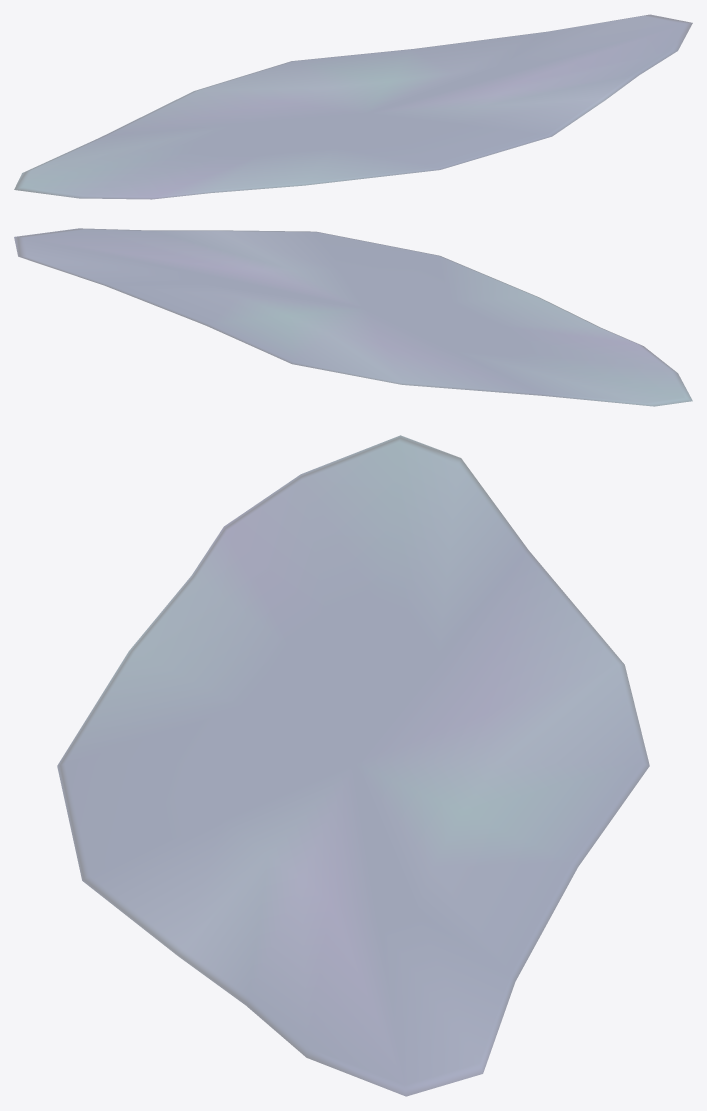
The model's file is alley_puddle.glb.
3 views of the same model, one above another, from view 1: azimuth 30°, elevation 25°; view 2: azimuth 150°, elevation 25°; view 3: azimuth 270°, elevation 25° (orthographic). The views are drawn at different scales.
Visible parts, largest first — view 1: alley_puddle; view 2: alley_puddle; view 3: alley_puddle.
Boxes of the visible parts, box(x1,y1,x2,y2) form: alley_puddle: box(14, 14, 692, 199); alley_puddle: box(14, 228, 692, 406); alley_puddle: box(57, 435, 649, 1096).
Bounding box in the file's own units: 2.41 × 0.005 × 0.9132.
